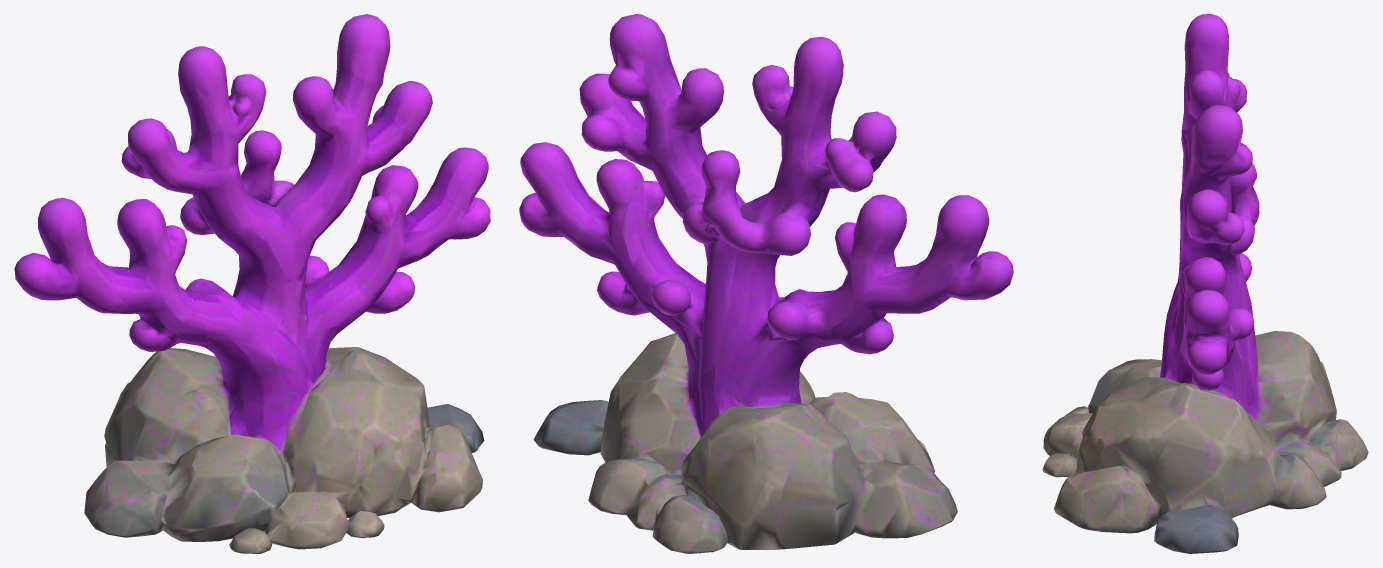
File: coral5.glb
3 renders of one model, left to right at view 1: azimuth 30°, elevation 25°; view 2: azimuth 150°, elevation 25°; view 3: azimuth 270°, elevation 25°, orthographic. The views are drawn at different scales.
Bounding box in the file's own units: 1.9 × 1.71 × 1.22.
1 material, 1 textured.
